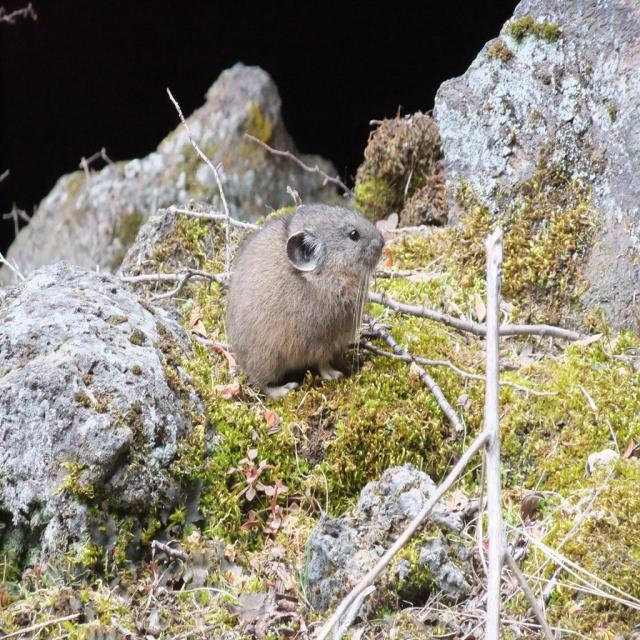rat: (228, 206, 386, 394)
